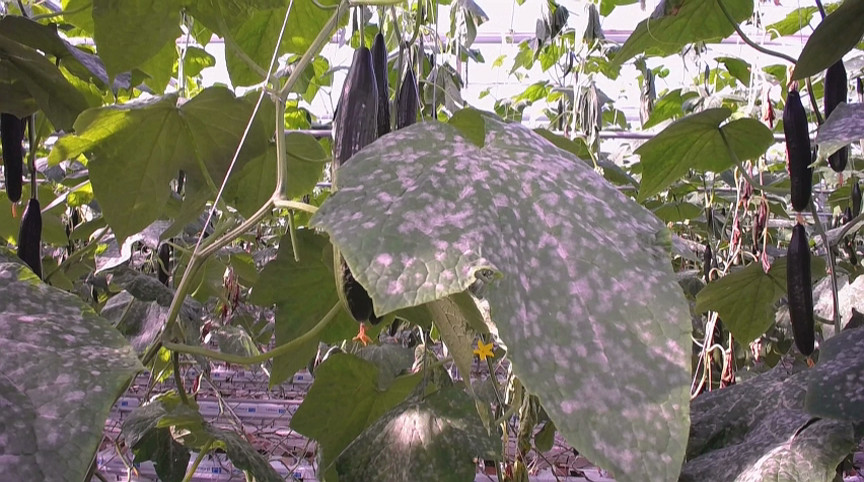cucumber: (330, 49, 379, 320), (787, 226, 815, 354), (783, 92, 812, 212), (825, 59, 848, 173), (16, 198, 43, 276), (391, 68, 421, 133), (1, 110, 22, 200)
